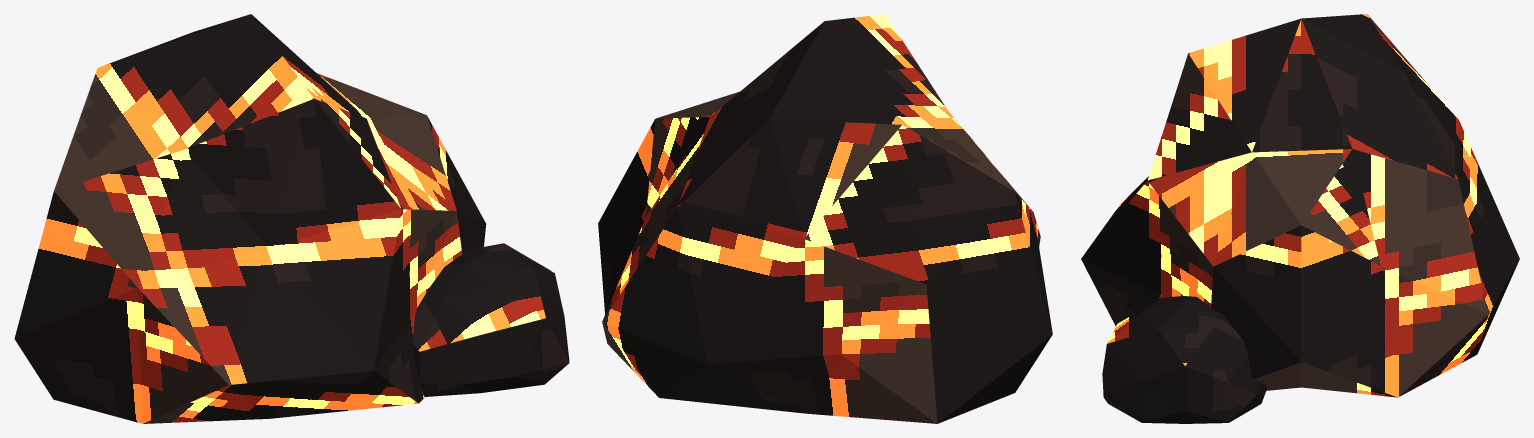
Rendered from lava_rock.glb.
3 views of the same model, side by side, from view 1: azimuth 30°, elevation 25°; view 2: azimuth 150°, elevation 25°; view 3: azimuth 270°, elevation 25° (orthographic). The views are drawn at different scales.
Visible parts, largest first — view 1: lava_rock; view 2: lava_rock; view 3: lava_rock.
Boxes of the visible parts, x1,y1,x2,y2 form: lava_rock: (14, 14, 569, 423); lava_rock: (598, 14, 1052, 423); lava_rock: (1081, 14, 1519, 423).
Size of the model in its own units: 1.48 by 1 by 1.31.
Materials: 1 (1 with a texture image).
